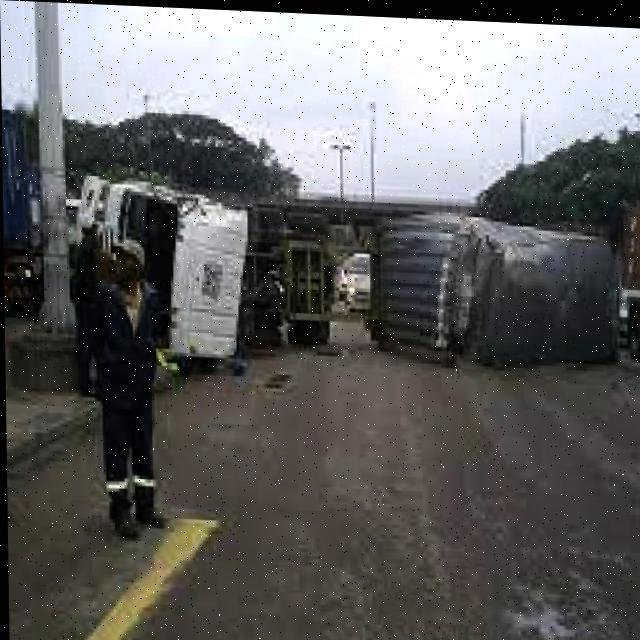multiple_accident: (63, 146, 640, 410)
